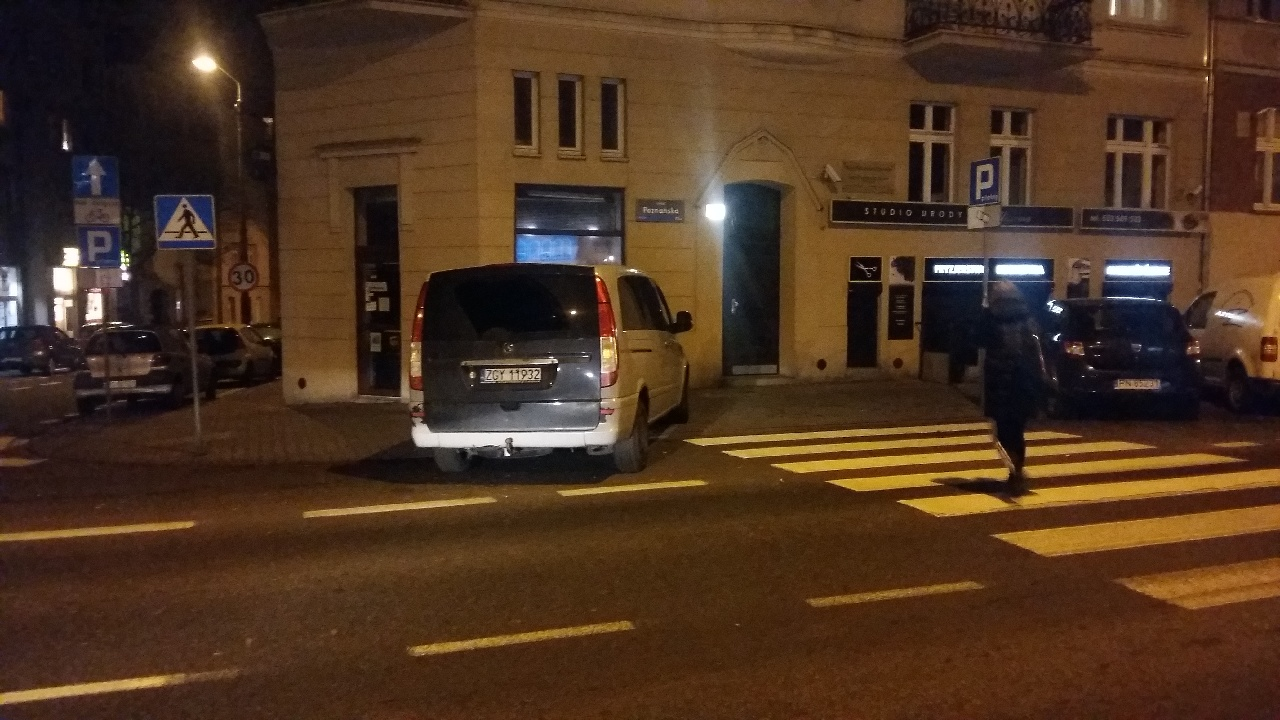B33_30: (222, 261, 262, 288)
D18: (958, 154, 1009, 206), (75, 226, 128, 271)
D3: (70, 152, 131, 201)
D6: (150, 193, 228, 255)
